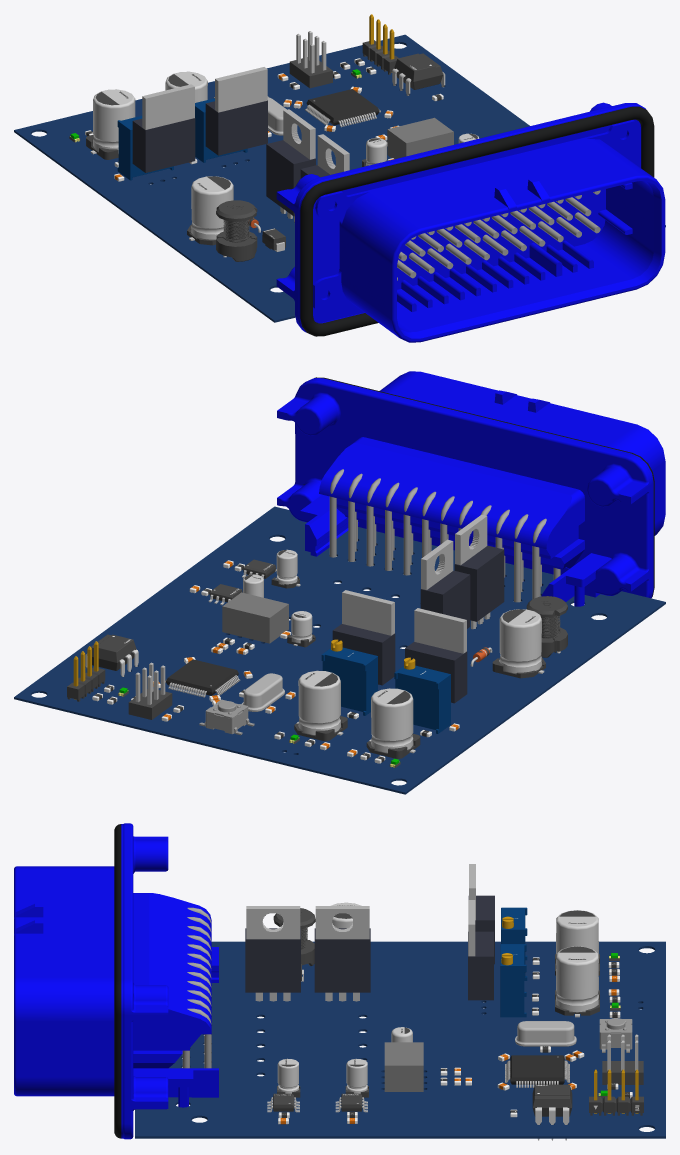
File: VCU.fbx
3 views of the same model, one above another, from view 1: azimuth 30°, elevation 25°; view 2: azimuth 150°, elevation 25°; view 3: azimuth 270°, elevation 25° (orthographic).
Visible parts, largest first — view 1: VCU; view 2: VCU; view 3: VCU.
Part boxes in pixels (x1=…): VCU: x1=14, y1=14, x2=665, y2=342; VCU: x1=14, y1=371, x2=665, y2=794; VCU: x1=14, y1=823, x2=665, y2=1140.
Bounding box in the file's own units: 0.085 × 0.0342 × 0.1203.
